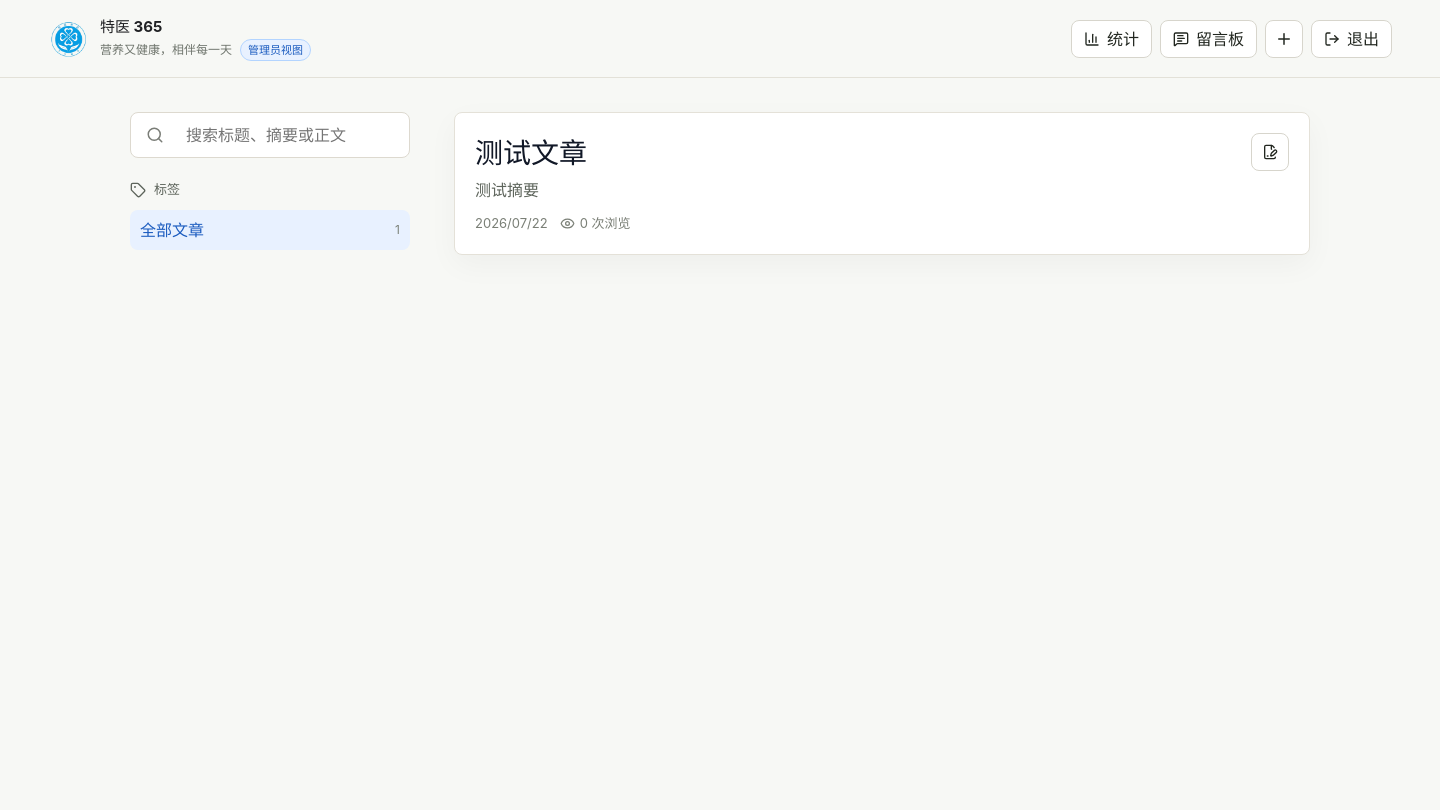
App article routing › loads the article comment area with the opened article id
Expected: the heading "测试文章" is shown, [475,136,587,170]
Click the button "测试文章 测试摘要 2026/07/22 0 次浏览" at (531, 153), box [475,133,1235,234]
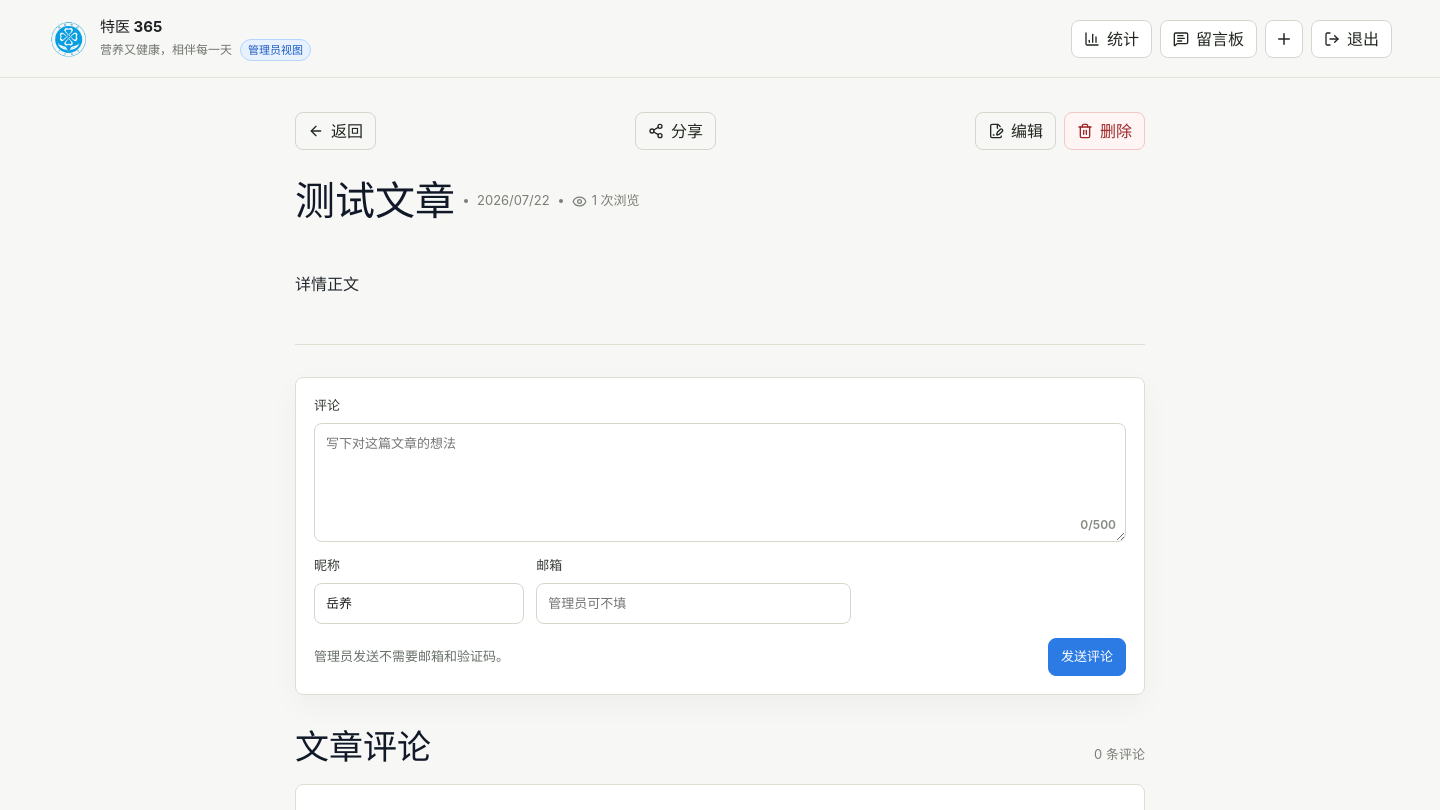
Result: the heading "文章评论" is shown at [295,721,431,772]
Result: the button "发送评论" is shown at [1048,638,1126,676]
